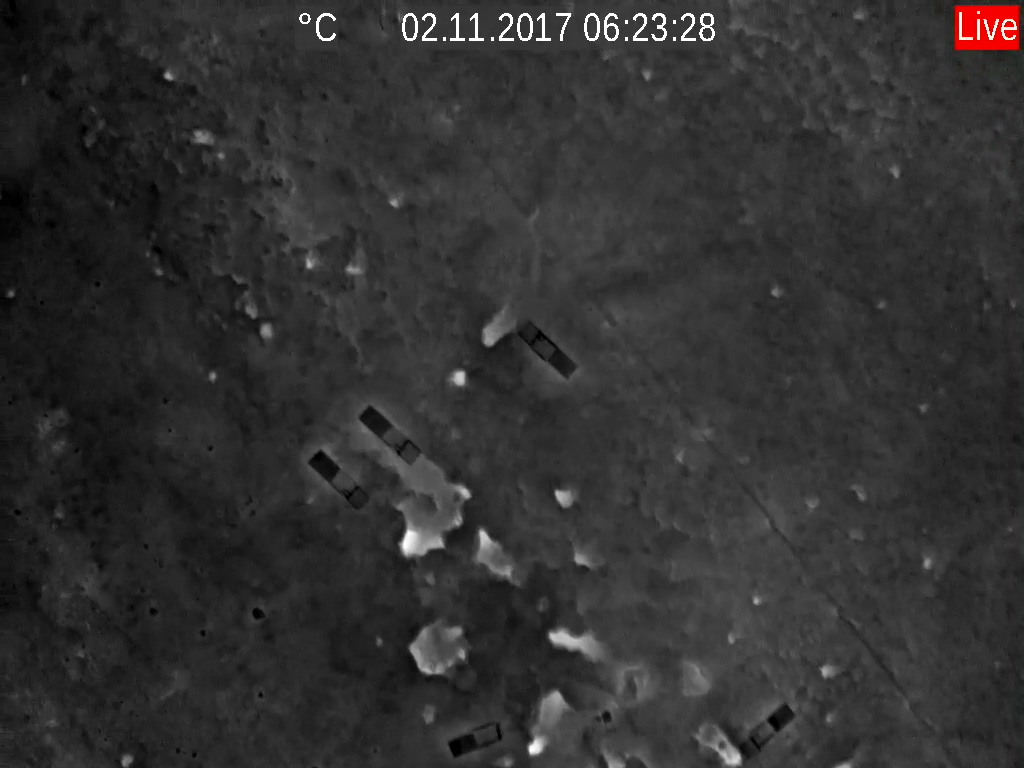warren: (379, 472, 472, 563), (408, 609, 471, 681), (525, 686, 570, 756), (692, 712, 745, 767), (474, 520, 517, 586), (541, 621, 604, 662), (477, 290, 518, 351), (547, 478, 580, 510), (449, 363, 472, 393), (341, 258, 368, 279)
